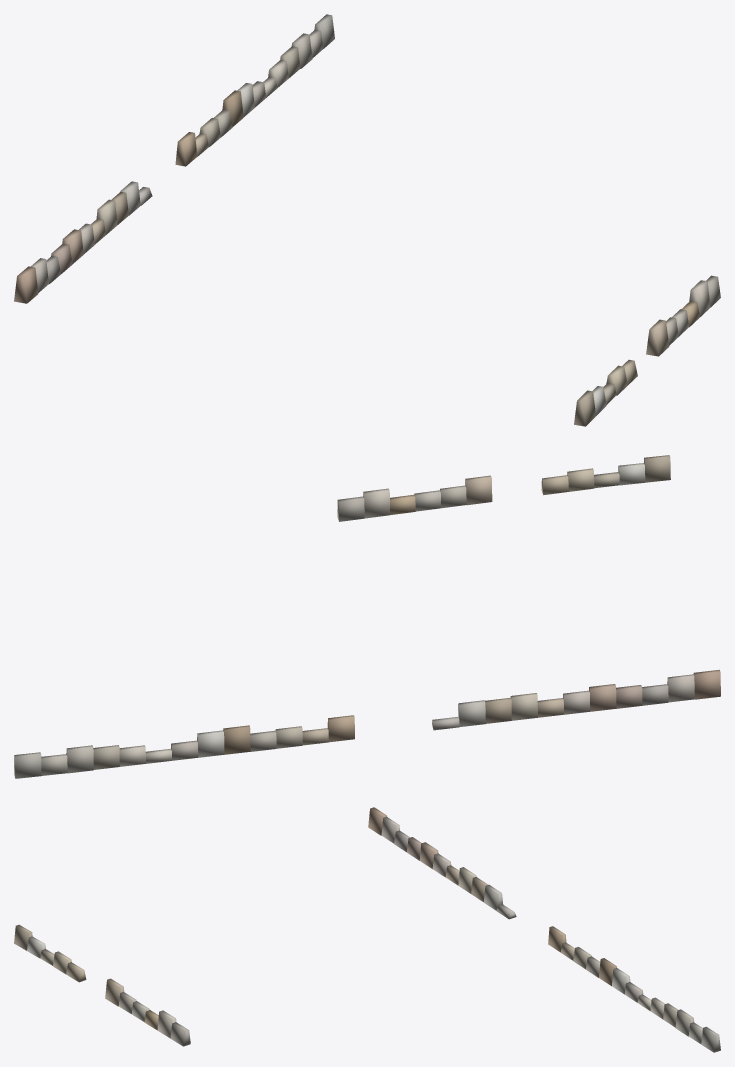
The model's file is farm_20_22_collision.glb.
The picture shows the model from 3 angles, top to bottom: view 1: azimuth 30°, elevation 25°; view 2: azimuth 150°, elevation 25°; view 3: azimuth 270°, elevation 25°; orthographic projection. The views are drawn at different scales.
Visible parts, largest first — view 1: geometry_0; view 2: geometry_0; view 3: geometry_0.
Part boxes in pixels (x1=…): geometry_0: x1=14, y1=14, x2=720, y2=426; geometry_0: x1=14, y1=455, x2=720, y2=778; geometry_0: x1=14, y1=807, x2=720, y2=1052.
Size of the model in its own units: 34.84 by 4.4 by 52.96.
